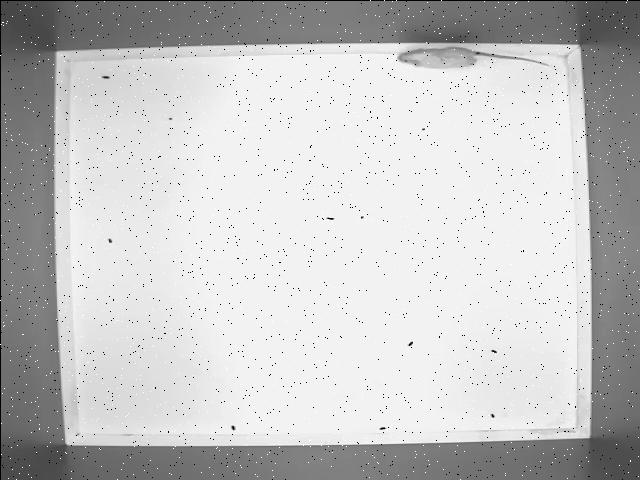Tikus: (398, 45, 550, 70)
